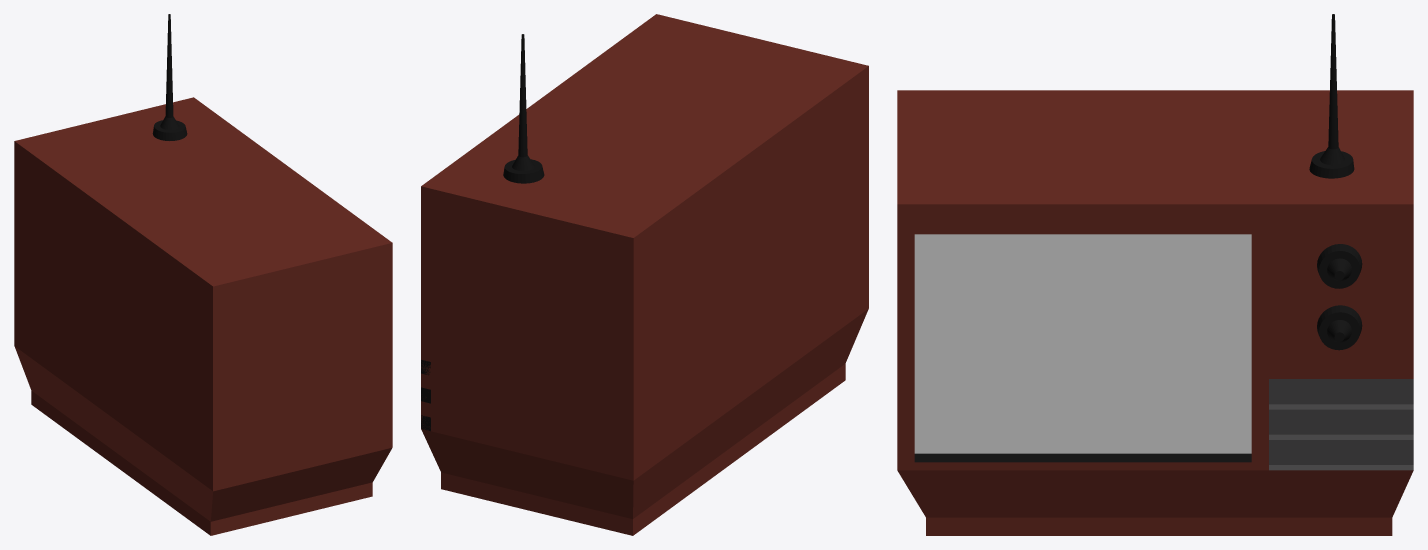
The model's file is TVRETRO.fbx.
3 views of the same model, side by side, from view 1: azimuth 30°, elevation 25°; view 2: azimuth 150°, elevation 25°; view 3: azimuth 270°, elevation 25° (orthographic). The views are drawn at different scales.
Parts seen in each view (by area): view 1: Cube; view 2: Cube; view 3: Cube.
Boxes of the visible parts, box(x1,y1,x2,y2) form: Cube: box(14, 14, 392, 535); Cube: box(421, 14, 868, 535); Cube: box(897, 14, 1413, 535).
Size of the model in its own units: 250 by 454 by 432.
